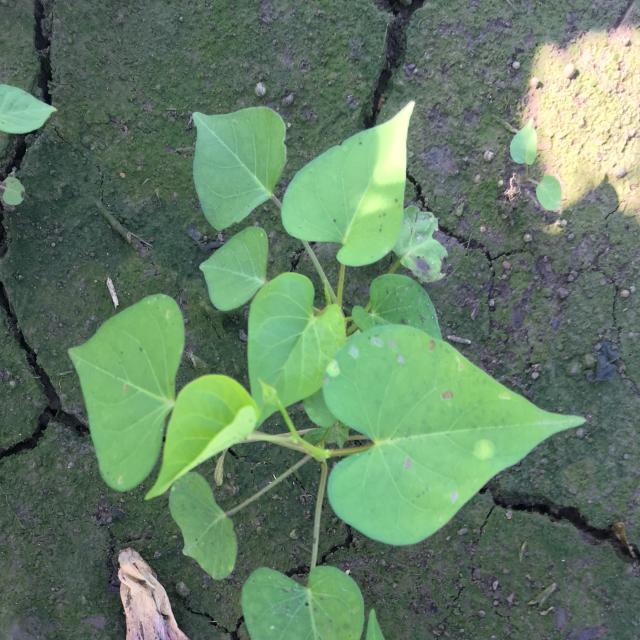MorningGlory: (69, 100, 587, 639), (510, 117, 563, 211)
